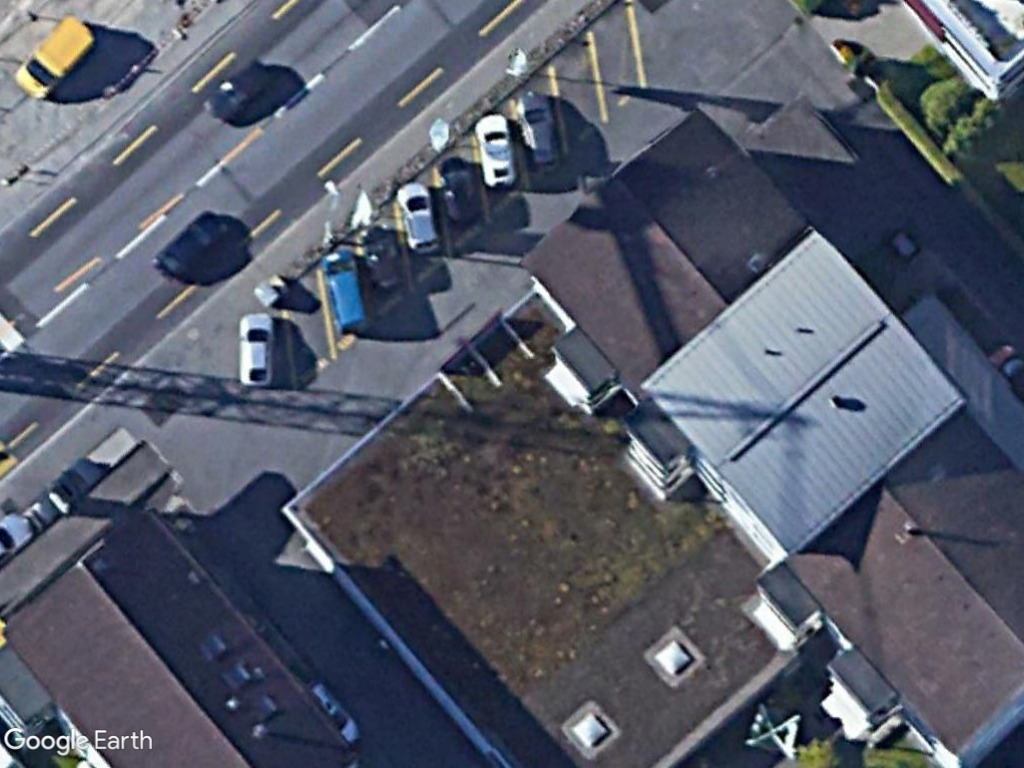car: (473, 112, 520, 194), (514, 89, 560, 172), (393, 181, 441, 256), (236, 308, 278, 391)
van: (12, 15, 95, 105), (318, 249, 371, 336)
